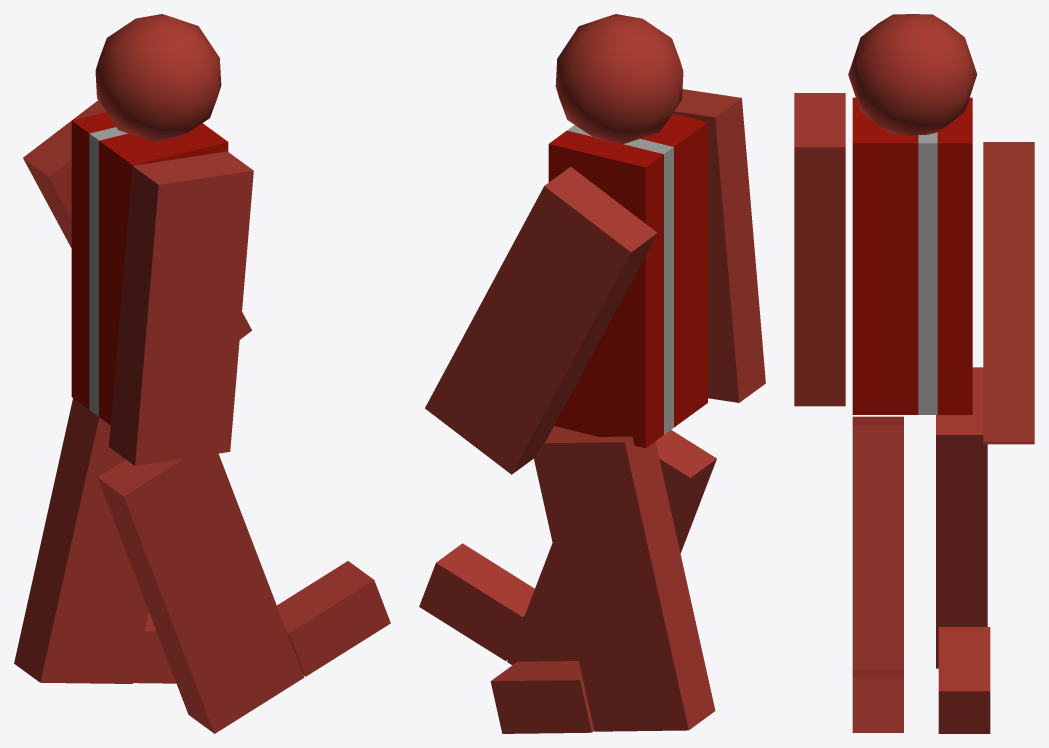
The model's file is player_000034.obj.
3 renders of one model, left to right at view 1: azimuth 30°, elevation 25°; view 2: azimuth 150°, elevation 25°; view 3: azimuth 270°, elevation 25°, orthographic. The views are drawn at different scales.
Parts seen in each view (by area): view 1: Cube.013, Cube.010, Cube.008, Cube.007, Icosphere.001, Cube.011, Cube.012, Cube.009; view 2: Cube.008, Cube.012, Cube.007, Cube.013, Icosphere.001, Cube.010, Cube.011, Cube.009; view 3: Cube.007, Cube.013, Cube.012, Cube.010, Icosphere.001, Cube.008, Cube.009, Cube.011.
Boxes of the visible parts, x1,y1,x2,y2 form: Cube.013: (109, 151, 253, 465); Cube.010: (97, 453, 304, 733); Cube.008: (14, 398, 148, 683); Cube.007: (71, 112, 228, 425); Icosphere.001: (95, 14, 221, 141); Cube.011: (277, 561, 390, 676); Cube.012: (23, 100, 251, 339); Cube.009: (133, 612, 176, 683); Cube.008: (534, 426, 715, 731); Cube.012: (425, 166, 657, 474); Cube.007: (548, 113, 707, 448); Cube.013: (673, 89, 765, 402); Icosphere.001: (555, 14, 683, 143); Cube.010: (507, 430, 716, 665); Cube.011: (419, 543, 534, 660); Cube.009: (490, 661, 594, 733); Cube.007: (852, 97, 972, 414); Cube.013: (794, 93, 845, 406); Cube.012: (983, 142, 1034, 444); Cube.010: (852, 416, 903, 669); Icosphere.001: (848, 14, 977, 135); Cube.008: (936, 367, 987, 668); Cube.009: (938, 627, 990, 733); Cube.011: (852, 670, 903, 732).
Size of the model in its own units: 1.33 by 2.87 by 0.9137.
